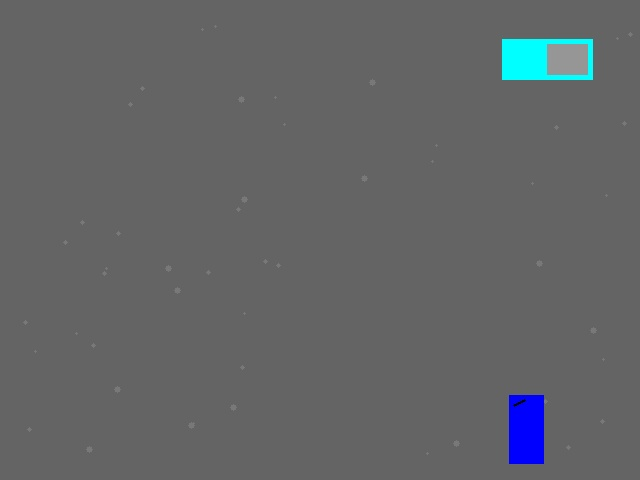motorcycle: (509, 395, 543, 463)
truck: (502, 39, 592, 79)
